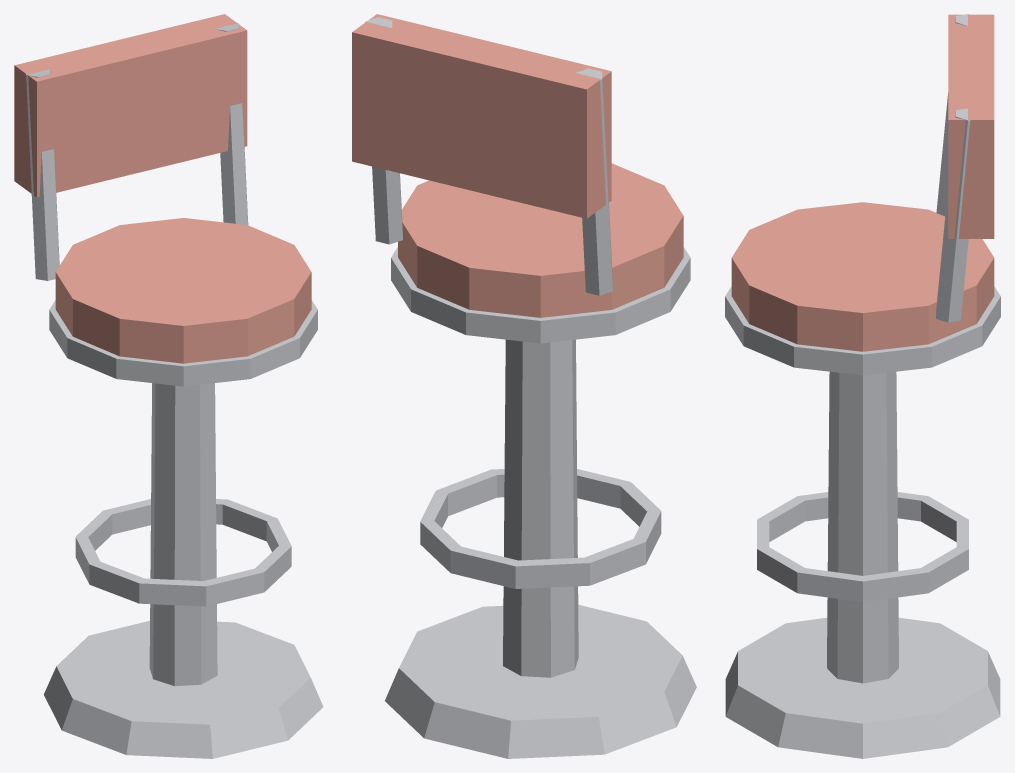
The model's file is retro-diner-and-roadside-motel-counter-end-stool-42aedf3a__37325.glb.
3 renders of one model, left to right at view 1: azimuth 30°, elevation 25°; view 2: azimuth 150°, elevation 25°; view 3: azimuth 270°, elevation 25°, orthographic. The views are drawn at different scales.
Visible parts, largest first — view 1: seat/coral, counter-end-stool-chrome, seat/chrome; view 2: seat/coral, counter-end-stool-chrome, seat/chrome; view 3: counter-end-stool-chrome, seat/coral, seat/chrome.
Part boxes in pixels (x1,y1,x2,y2): seat/coral: (14,14,311,363); counter-end-stool-chrome: (43,383,323,758); seat/chrome: (26,23,317,386); seat/coral: (352,14,683,317); counter-end-stool-chrome: (385,339,696,758); seat/chrome: (365,17,690,343); counter-end-stool-chrome: (725,371,1000,758); seat/coral: (731,14,994,351); seat/chrome: (725,14,1000,375).
Bounding box in the file's own units: 0.44 × 1.06 × 0.42.
